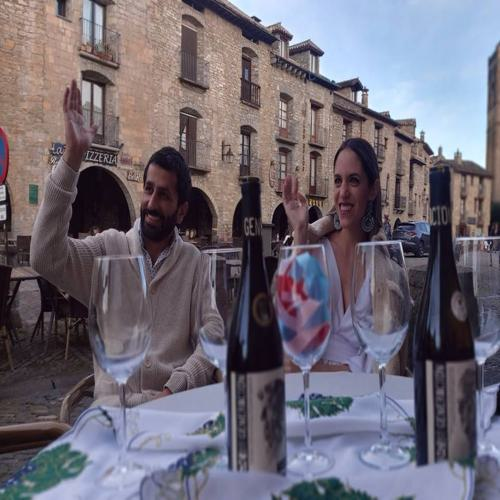copa: (349, 242, 414, 469), (87, 257, 150, 483), (271, 247, 333, 475), (194, 250, 259, 456), (451, 239, 500, 478)
